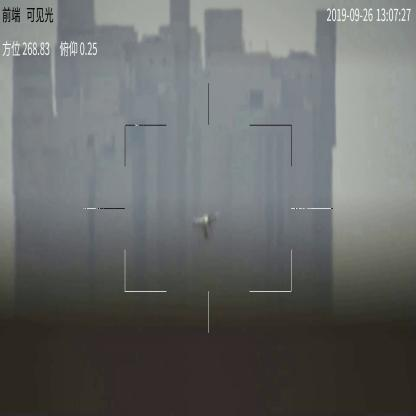uav: (189, 209, 222, 242)
